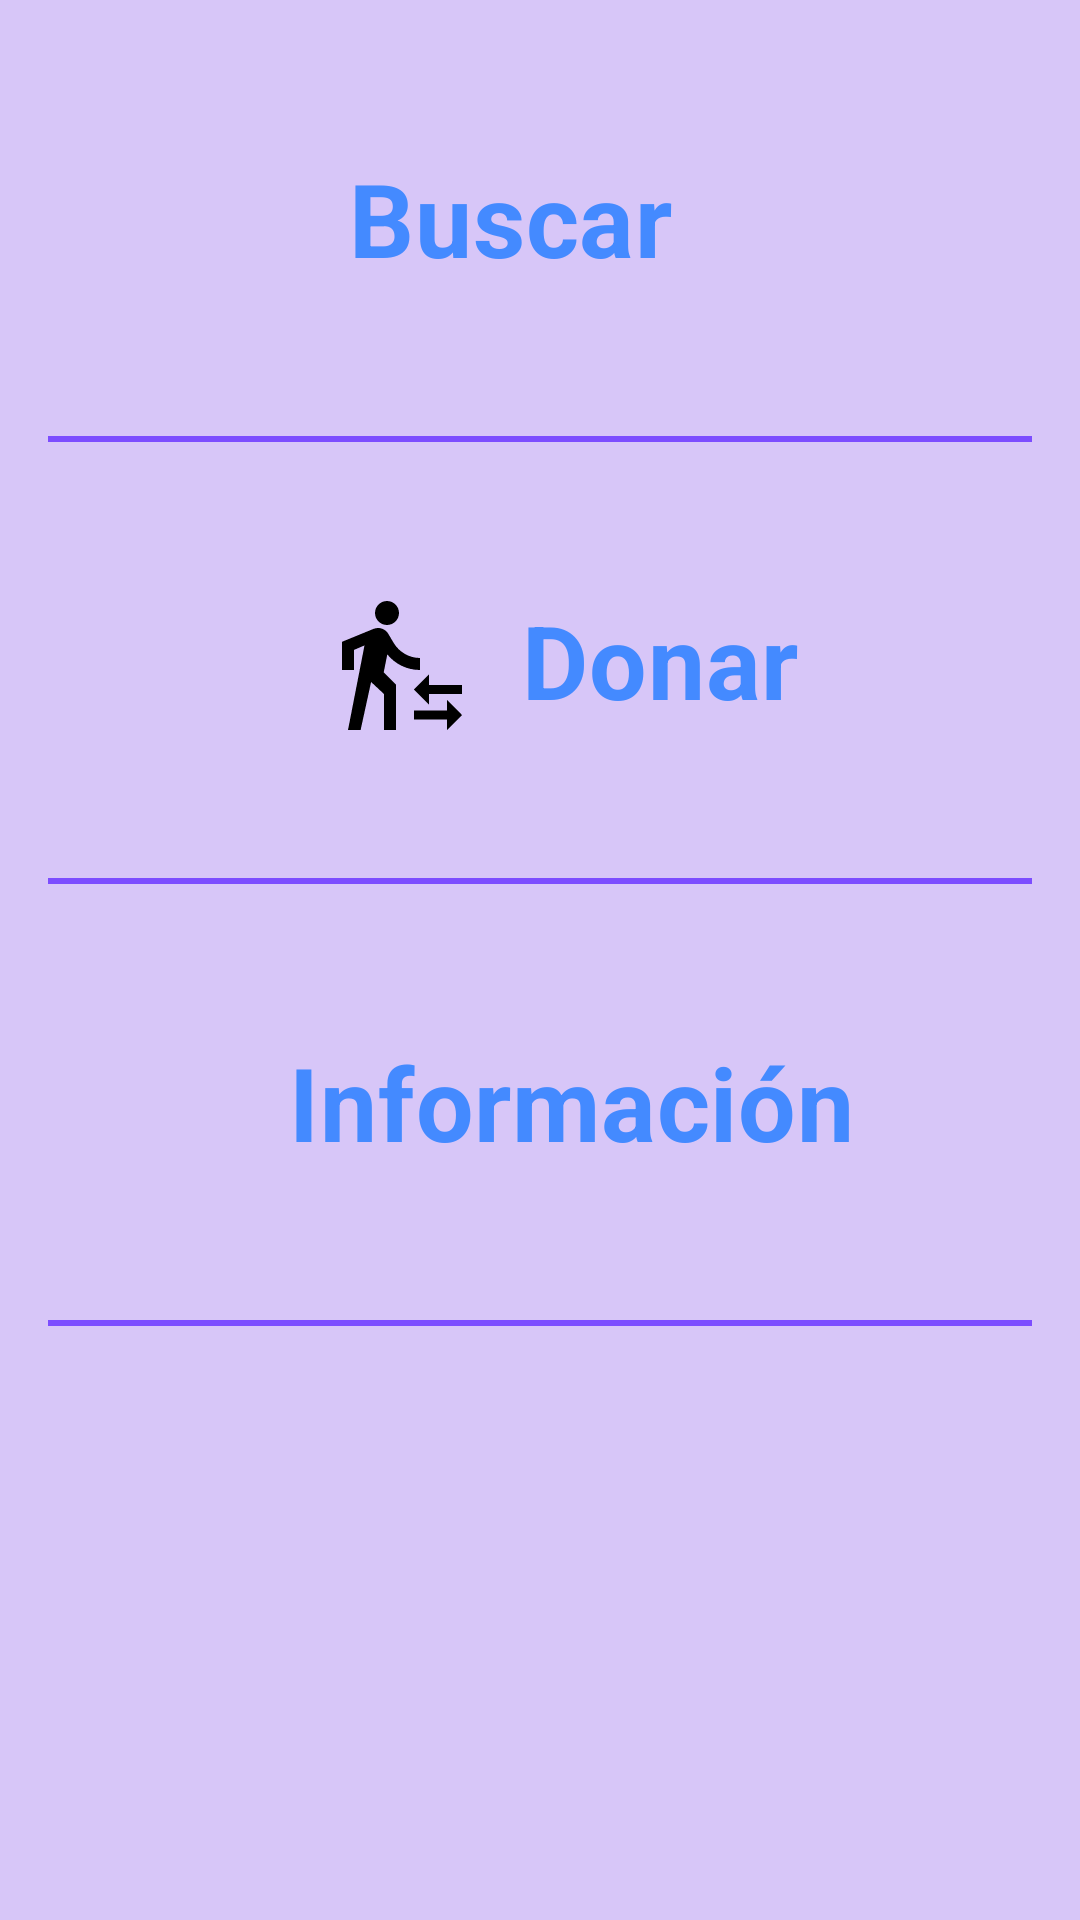

Where to tap for icons on this 1080x1920 app screen, as point (x, y):
transfer: point (402, 665)
